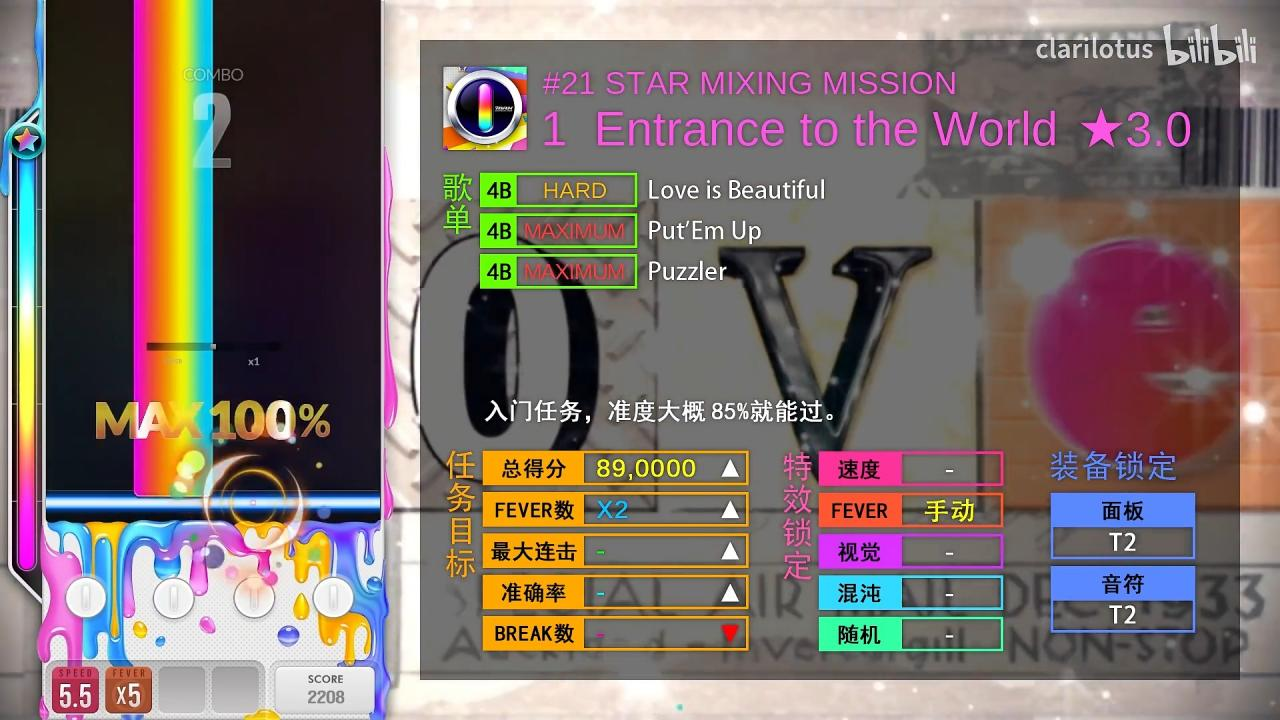hold-start: (133, 482, 213, 497)
